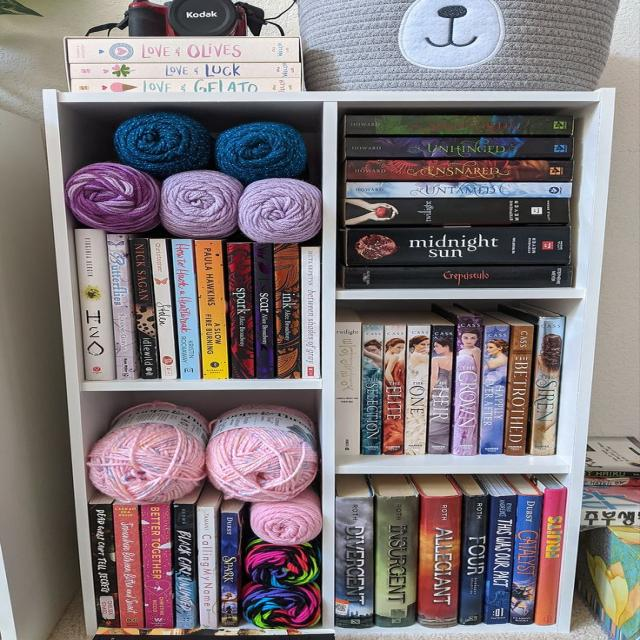book: (500, 304, 564, 455), (343, 226, 570, 267), (490, 311, 533, 455), (441, 306, 482, 455), (344, 199, 569, 226), (76, 229, 115, 379), (342, 265, 571, 289), (346, 135, 572, 159), (377, 496, 417, 626), (506, 476, 541, 624), (336, 497, 376, 625), (346, 160, 570, 182), (533, 476, 566, 625), (66, 40, 299, 61), (421, 496, 458, 625), (194, 240, 228, 379), (477, 314, 510, 455), (345, 116, 572, 136), (107, 234, 138, 379), (130, 237, 160, 379), (141, 503, 174, 628), (113, 501, 144, 630), (171, 239, 199, 379), (227, 242, 255, 379), (150, 239, 177, 379), (90, 494, 118, 627), (427, 325, 455, 454), (347, 182, 571, 198), (68, 63, 302, 78), (274, 244, 300, 378), (336, 322, 361, 455), (403, 325, 428, 455), (252, 243, 275, 378), (174, 500, 198, 628), (360, 325, 383, 454), (382, 325, 403, 454), (464, 495, 485, 624), (301, 247, 320, 379), (73, 79, 300, 90), (198, 507, 216, 629), (492, 496, 509, 624), (222, 512, 237, 627)
camera: (86, 0, 267, 37)
